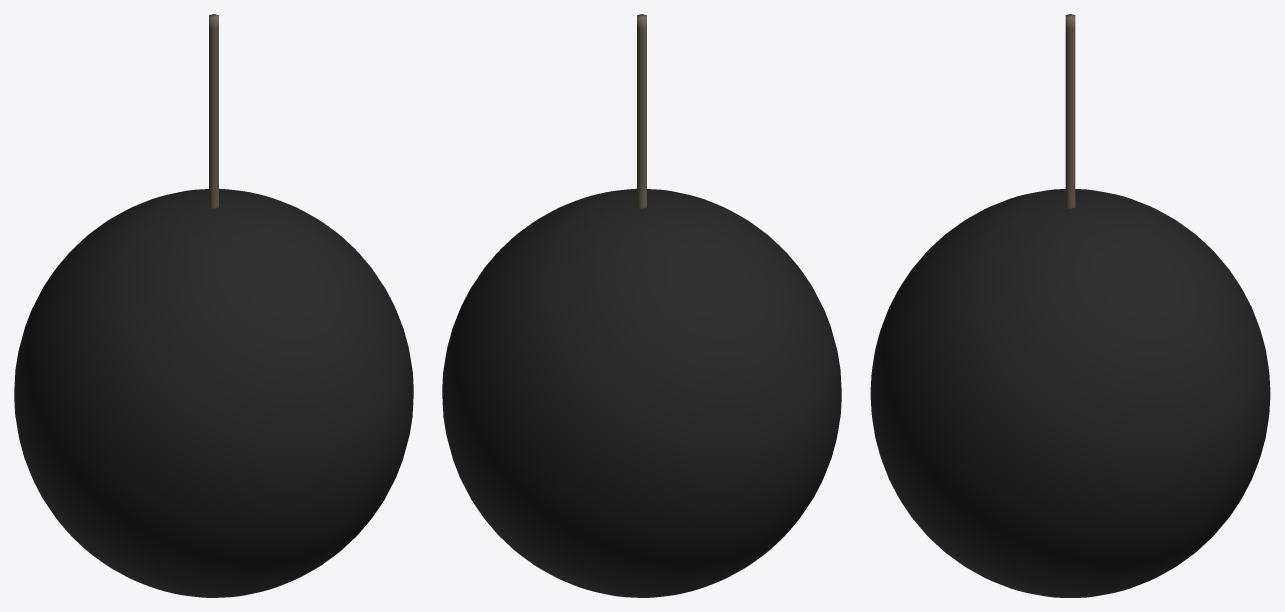
The model's file is bomb.fbx.
The picture shows the model from 3 angles, left to right: view 1: azimuth 30°, elevation 25°; view 2: azimuth 150°, elevation 25°; view 3: azimuth 270°, elevation 25°; orthographic projection.
Parts seen in each view (by area): view 1: Sphere.001, NurbsPath.001; view 2: Sphere.001, NurbsPath.001; view 3: Sphere.001, NurbsPath.001.
Part boxes in pixels (x1,y1,x2,y2): Sphere.001: (14,188,413,597); NurbsPath.001: (209,14,218,208); Sphere.001: (442,188,841,597); NurbsPath.001: (637,14,646,208); Sphere.001: (870,189,1270,597); NurbsPath.001: (1065,14,1075,208).
Size of the model in its own units: 623 by 971 by 623.
